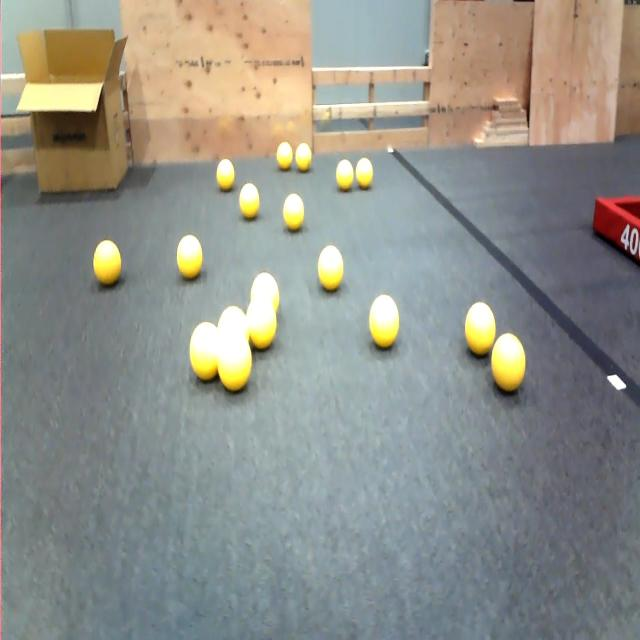fuel: (218, 328, 252, 391), (491, 334, 525, 392), (464, 302, 496, 356), (246, 296, 277, 350), (190, 322, 218, 381), (369, 295, 399, 348), (93, 240, 121, 286), (250, 272, 279, 312), (318, 246, 343, 291), (177, 235, 202, 279), (218, 305, 249, 340), (283, 193, 304, 231), (239, 184, 259, 219), (336, 159, 354, 191), (217, 159, 234, 191), (356, 158, 373, 189), (295, 143, 311, 172), (277, 142, 292, 170)
